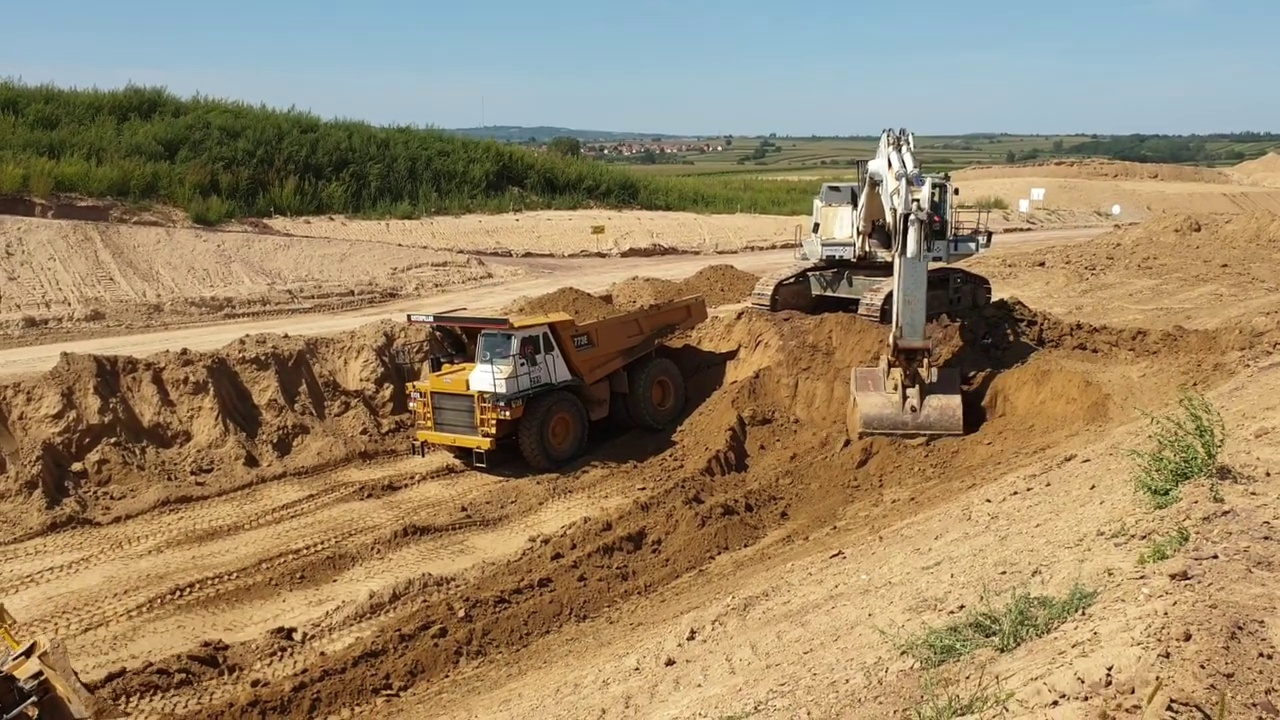bulldozer: (1, 592, 112, 720)
excavator: (749, 121, 998, 444)
truck: (405, 288, 715, 481)
